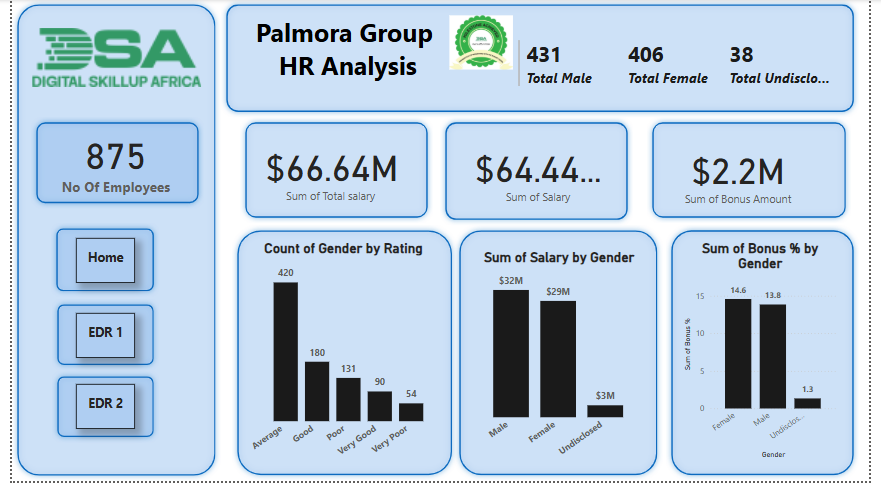

The page's visual inventory and layout, read from the dashboard file:
{"tool":"powerbi","page":{"name":"Home","canvas":[1280,720],"ordinal":0},"visuals":[{"type":"shape","box":[0,0,312,720],"z":0},{"type":"shape","box":[311.7,0,953.3,176.7],"z":1000},{"type":"textbox","box":[352.2,19.7,287.8,135.9],"z":2000},{"type":"shape","box":[640,176.7,288.3,161.7],"z":3000},{"type":"card","fields":{"Values":["Palmoria Group emp-data 2.Salary"]},"box":[685,193.3,200,130],"z":4000},{"type":"shape","box":[948.3,176.7,305,158.3],"z":5000},{"type":"card","fields":{"Values":["Palmoria Group emp-data 2.Bonus Amount"]},"box":[976.7,195,215,130],"z":6000},{"type":"shape","box":[340,176.7,288.3,158.3],"z":7000},{"type":"card","fields":{"Values":["Palmoria Group emp-data 2.Total salary "]},"box":[370,191.7,215,130],"z":8000},{"type":"shape","box":[328.3,338.3,336.7,381.7],"z":9000},{"type":"columnChart","fields":{"Category":["Palmoria Group emp-data 2.Rating"],"Y":["Palmoria Group emp-data 2.Gender"]},"box":[351.7,360,288.3,341.7],"z":10000},{"type":"shape","box":[660,338.3,311.7,381.7],"z":11000},{"type":"columnChart","fields":{"Y":["Palmoria Group emp-data 2.Salary"],"Category":["Palmoria Group emp-data 2.Gender"]},"box":[685,373.3,263.3,328.3],"z":12000},{"type":"shape","box":[976.7,338.3,288.3,381.7],"z":13000},{"type":"shape","box":[28.3,176.7,258.3,136.7],"z":14000},{"type":"card","fields":{"Values":["Palmoria Group emp-data 2.Name"]},"box":[48.3,176.7,215,130],"z":15000},{"type":"columnChart","fields":{"Category":["Palmoria Group emp-data 2.Gender"],"Y":["Palmoria Group emp-data 2.Bonus %"]},"box":[1000,360,236.7,331.7],"z":16000},{"type":"shape","box":[60,448.3,160,106.7],"z":17000},{"type":"shape","box":[58.3,335,161.7,110],"z":18000},{"type":"shape","box":[60,555,160,106.7],"z":19000},{"type":"textbox","box":[95,356.7,88.3,66.7],"z":20000},{"type":"textbox","box":[95,468.3,88.3,66.7],"z":21000},{"type":"textbox","box":[95,575,88.3,66.7],"z":22000},{"type":"image","box":[25,20,261.7,135],"z":23000},{"type":"image","box":[640,19.7,123.4,91.2],"z":24000},{"type":"multiRowCard","fields":{"Values":["Palmoria Group emp-data 2.Total Male","Palmoria Group emp-data 2.Total Female","Palmoria Group emp-data 2.Total Undisclosed"]},"box":[750.8,41.1,477.3,135.9],"z":25001}]}

Visuals, with their boxes in screenshot pixels (x1, y1, x2, y2), scaled from the page's 1280x720 canvas onto the 881x485 screenshot:
shape: select_region(0, 0, 215, 484)
shape: select_region(215, 0, 871, 119)
textbox: select_region(242, 13, 440, 105)
shape: select_region(440, 119, 639, 228)
card - Palmoria Group emp-data 2.Salary: select_region(471, 130, 609, 218)
shape: select_region(653, 119, 863, 226)
card - Palmoria Group emp-data 2.Bonus Amount: select_region(672, 131, 820, 219)
shape: select_region(234, 119, 432, 226)
card - Palmoria Group emp-data 2.Total salary : select_region(255, 129, 403, 217)
shape: select_region(226, 228, 458, 484)
columnChart - Palmoria Group emp-data 2.Rating x Palmoria Group emp-data 2.Gender: select_region(242, 243, 440, 473)
shape: select_region(454, 228, 669, 484)
columnChart - Palmoria Group emp-data 2.Salary x Palmoria Group emp-data 2.Gender: select_region(471, 251, 653, 473)
shape: select_region(672, 228, 871, 484)
shape: select_region(19, 119, 197, 211)
card - Palmoria Group emp-data 2.Name: select_region(33, 119, 181, 207)
columnChart - Palmoria Group emp-data 2.Gender x Palmoria Group emp-data 2.Bonus %: select_region(688, 243, 851, 466)
shape: select_region(41, 302, 151, 374)
shape: select_region(40, 226, 151, 300)
shape: select_region(41, 374, 151, 446)
textbox: select_region(65, 240, 126, 285)
textbox: select_region(65, 315, 126, 360)
textbox: select_region(65, 387, 126, 432)
image: select_region(17, 13, 197, 104)
image: select_region(440, 13, 525, 75)
multiRowCard - Palmoria Group emp-data 2.Total Male x Palmoria Group emp-data 2.Total Female: select_region(517, 28, 845, 119)
